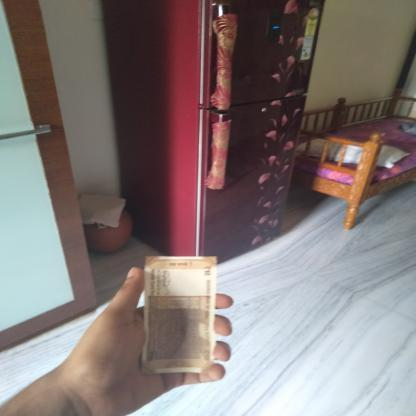New10Back: (142, 256, 212, 374)
